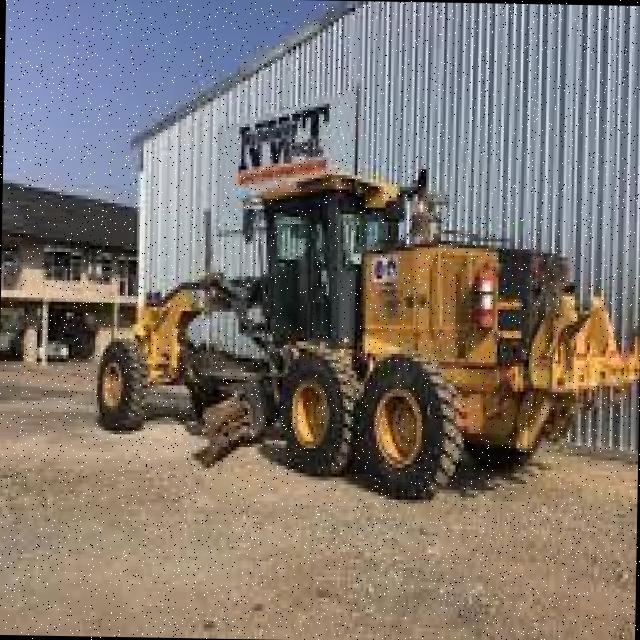Grader: (62, 159, 640, 514)
